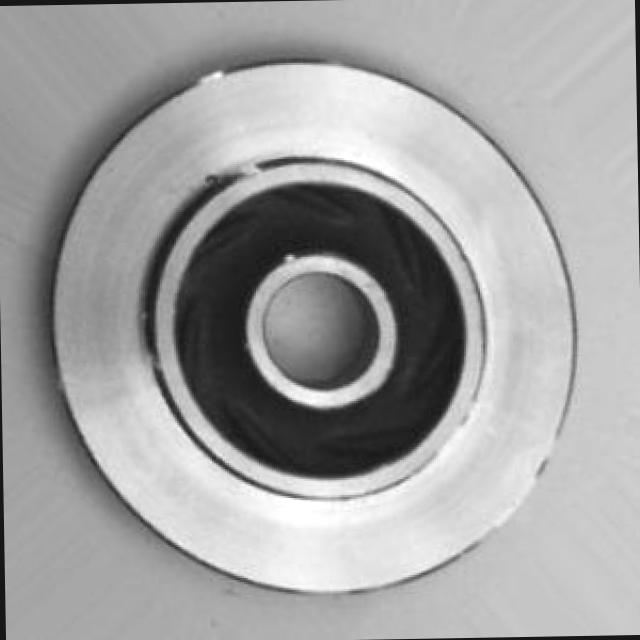Defect: (190, 154, 244, 200)
